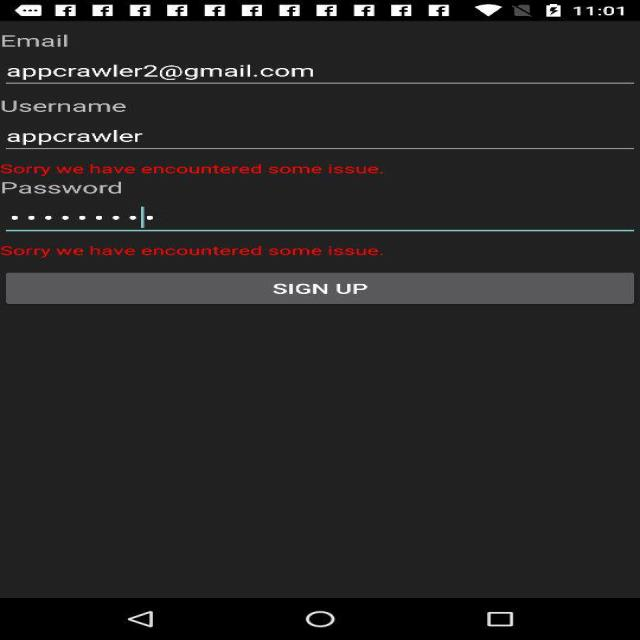button: (7, 272, 640, 307)
text: (6, 58, 532, 82), (0, 153, 416, 179), (0, 243, 391, 257), (2, 123, 220, 147), (0, 176, 140, 199), (0, 95, 146, 116), (0, 31, 97, 47)
